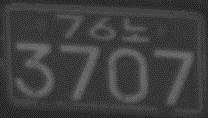0: (106, 46, 150, 105)
3: (14, 41, 56, 98)
6: (88, 15, 117, 40)
7: (153, 47, 195, 107), (59, 43, 101, 101), (56, 13, 84, 38)
노: (121, 16, 150, 42)
